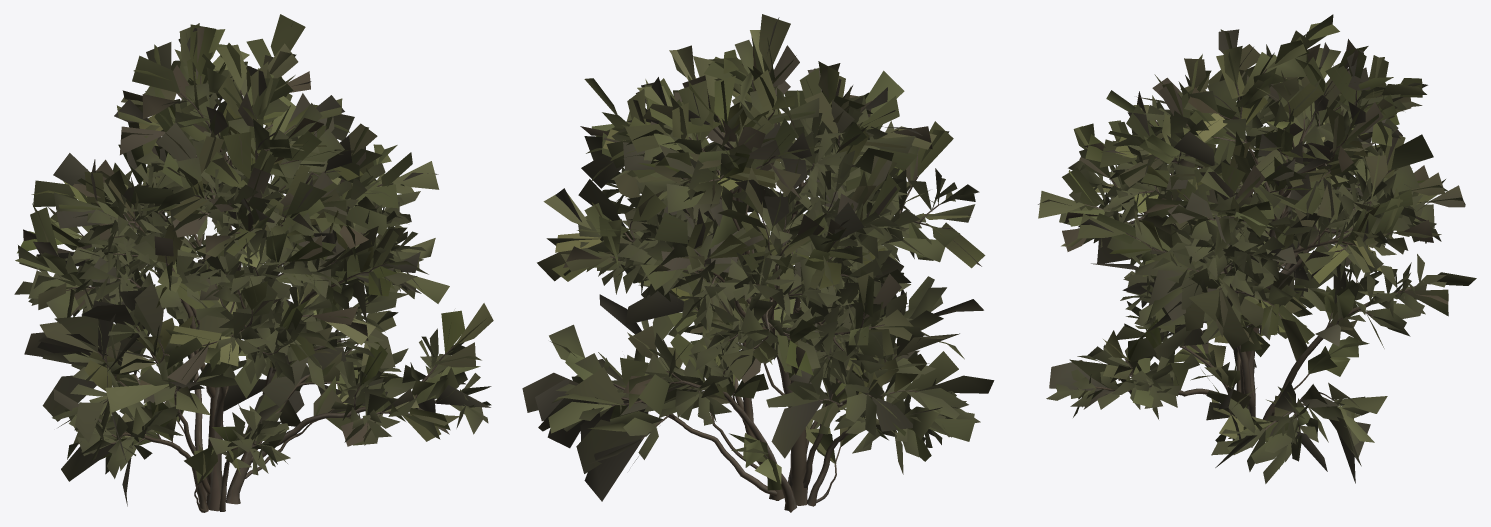
File: SM_BlackAlder_Field_05_PP_LOD4.gltf
3 renders of one model, left to right at view 1: azimuth 30°, elevation 25°; view 2: azimuth 150°, elevation 25°; view 3: azimuth 270°, elevation 25°, orthographic. The views are drawn at different scales.
Parts seen in each view (by area): view 1: SM_BlackAlder_Field_05_PP; view 2: SM_BlackAlder_Field_05_PP; view 3: SM_BlackAlder_Field_05_PP.
Part boxes in pixels (left/top/right/bottom): SM_BlackAlder_Field_05_PP: left=14, top=14, right=493, bottom=512; SM_BlackAlder_Field_05_PP: left=522, top=14, right=994, bottom=512; SM_BlackAlder_Field_05_PP: left=1038, top=14, right=1476, bottom=483.
Size of the model in its own units: 6.74 by 7.46 by 7.01.
3 materials, 3 textured.
